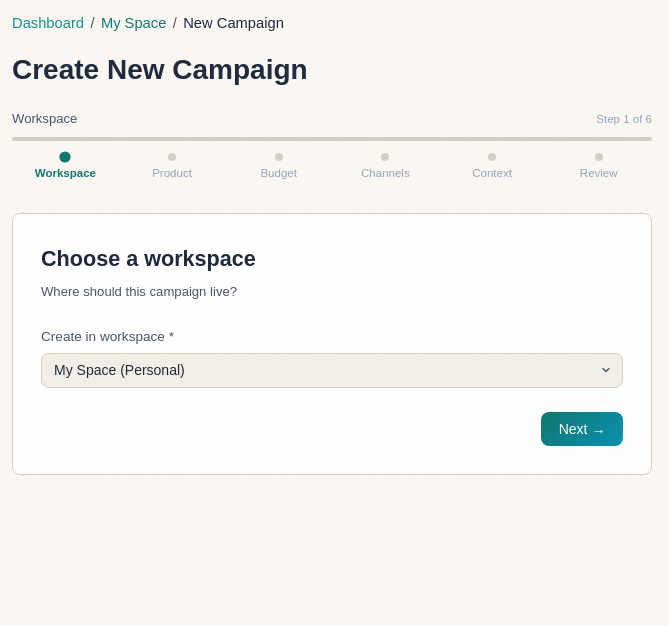
Scenario: NewCampaign — wizard step labels › shows completed step labels with checkmark and dimmed style after advancing
Expected: the button named "create in workspace" shows "My Space", [41,353,623,388]
Click the button "Next →": (582, 429) [541,412,623,446]
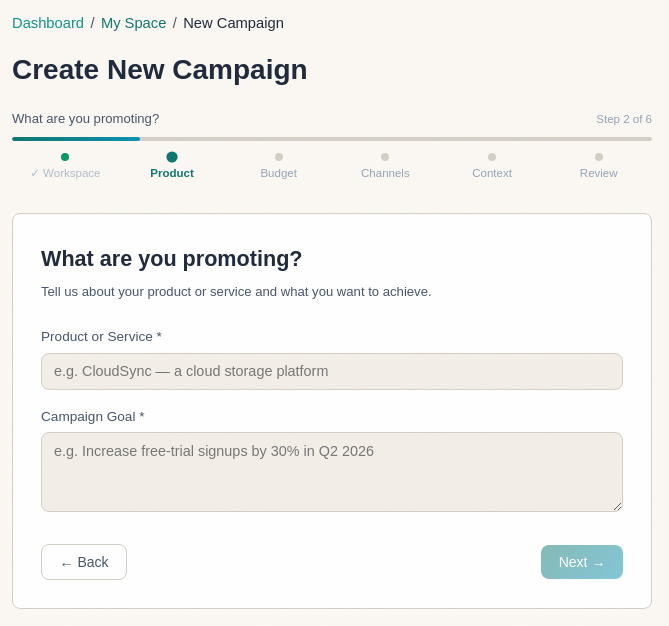
Expected: the field with placeholder "e.g. CloudSync — a cloud storage platform" is shown, [41,353,623,390]
Expected: the text with class "wizard-dot-label--done" shows "✓", [30,167,43,179]
Expected: the text "Product" is shown, [150,167,194,181]
